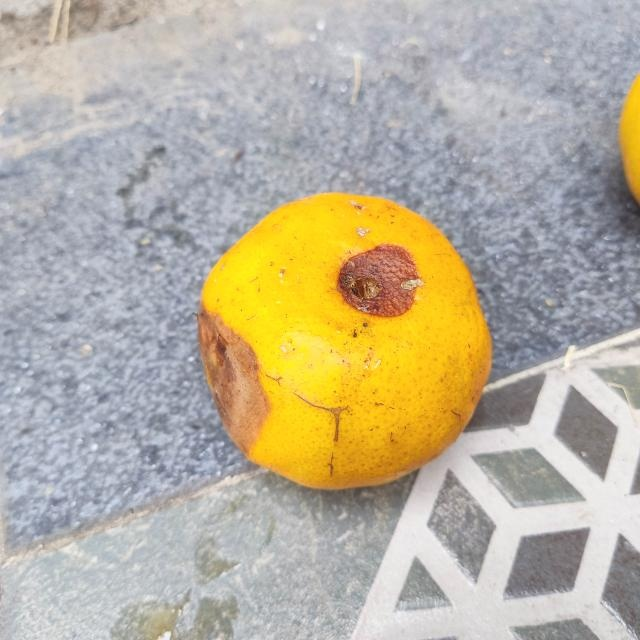agrume: (197, 188, 495, 492)
